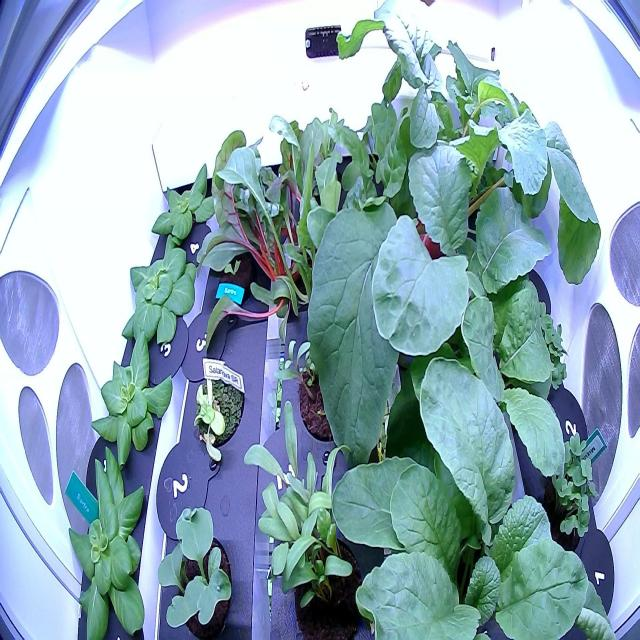germination: (214, 236, 256, 303)
young: (62, 440, 157, 640), (86, 318, 178, 480), (118, 228, 201, 359), (147, 142, 226, 270), (183, 354, 250, 471)
